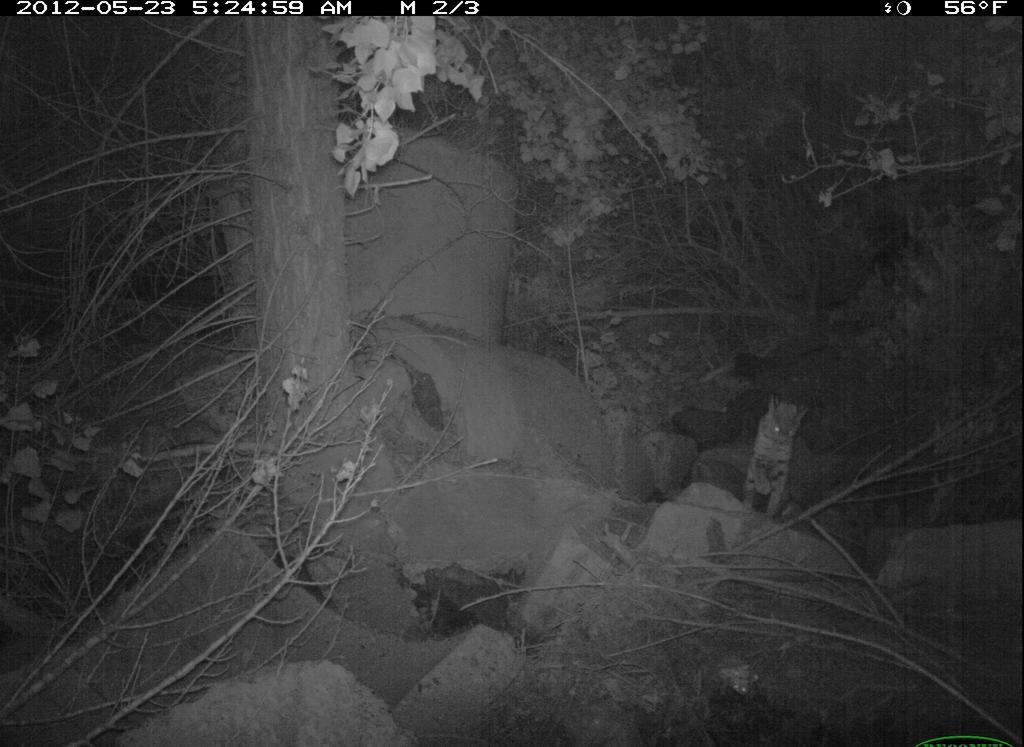bobcat: (745, 391, 807, 520)
